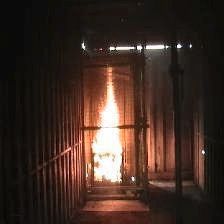fire: (89, 74, 128, 186)
